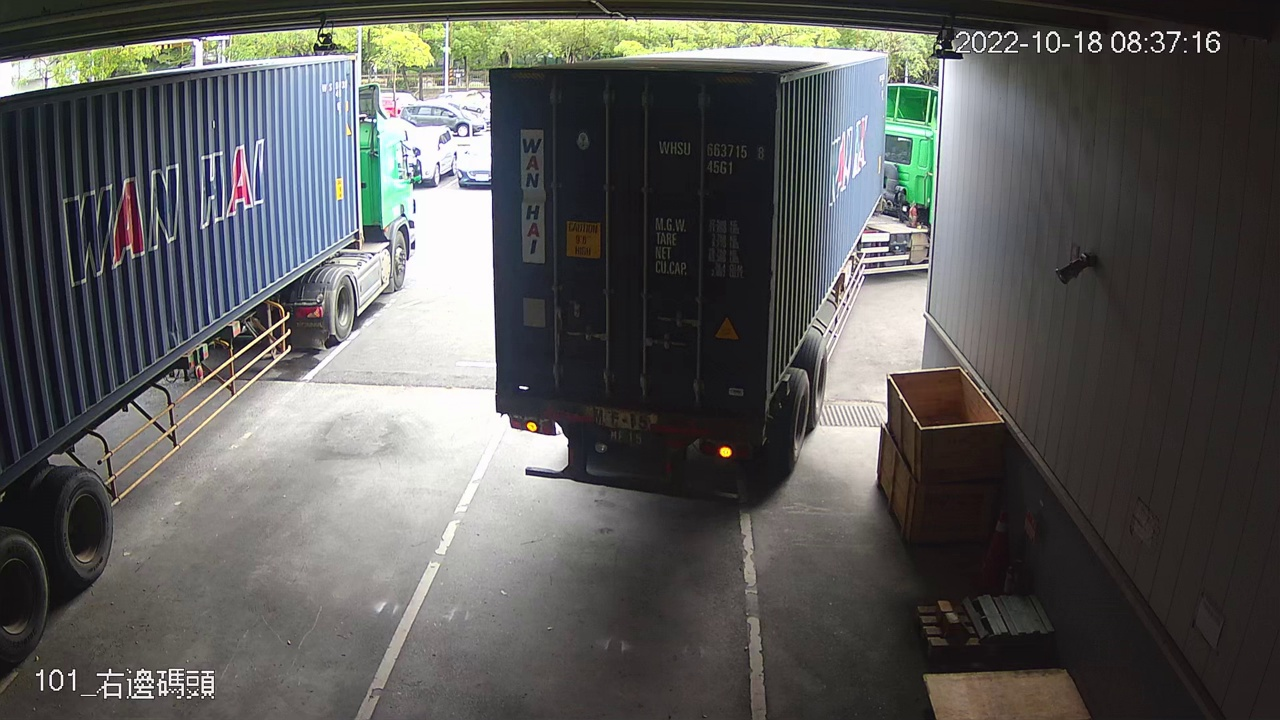container: (653, 134, 770, 180)
